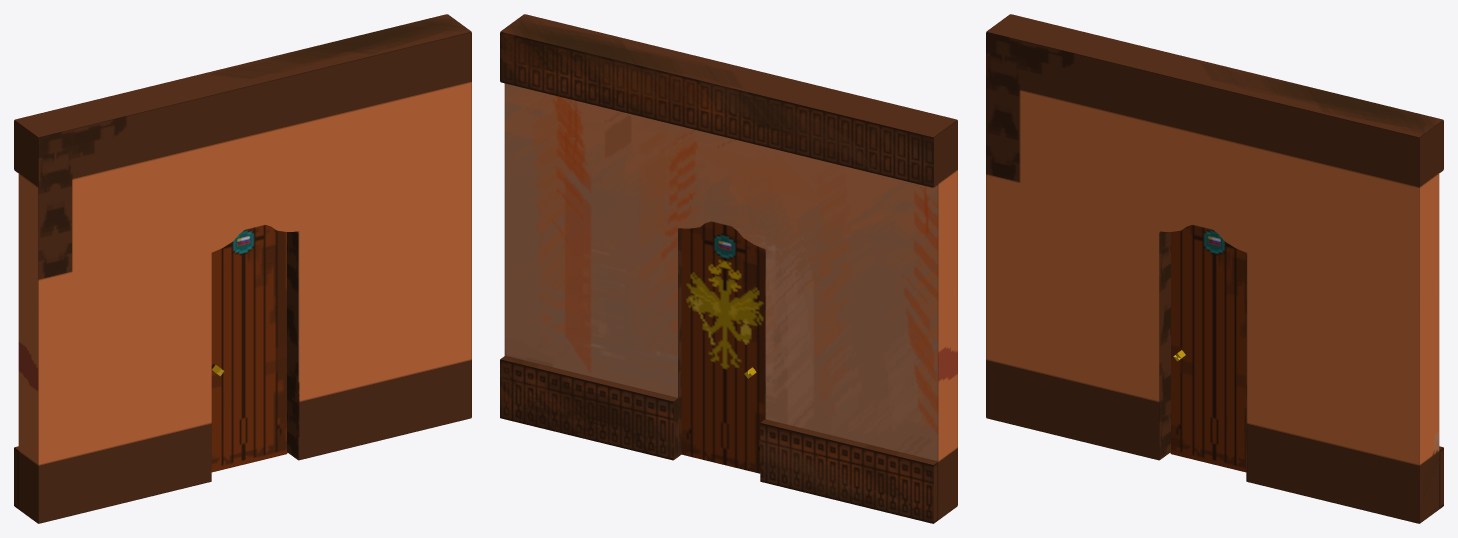
The model's file is WALL_DOOR.fbx.
The picture shows the model from 3 angles, left to right: view 1: azimuth 30°, elevation 25°; view 2: azimuth 150°, elevation 25°; view 3: azimuth 330°, elevation 25°; orthographic projection.
Visible parts, largest first — view 1: cuboid, doorknob; view 2: cuboid, doorknob; view 3: cuboid, doorknob.
Part boxes in pixels (<box>): cuboid: <box>14,14,471,523</box>; doorknob: <box>211,225,287,472</box>; cuboid: <box>500,14,957,523</box>; doorknob: <box>681,221,764,473</box>; cuboid: <box>986,14,1443,523</box>; doorknob: <box>1170,225,1246,472</box>.
Size of the model in its own units: 338 by 289 by 32.81.
Materials: 3 (3 with a texture image).
